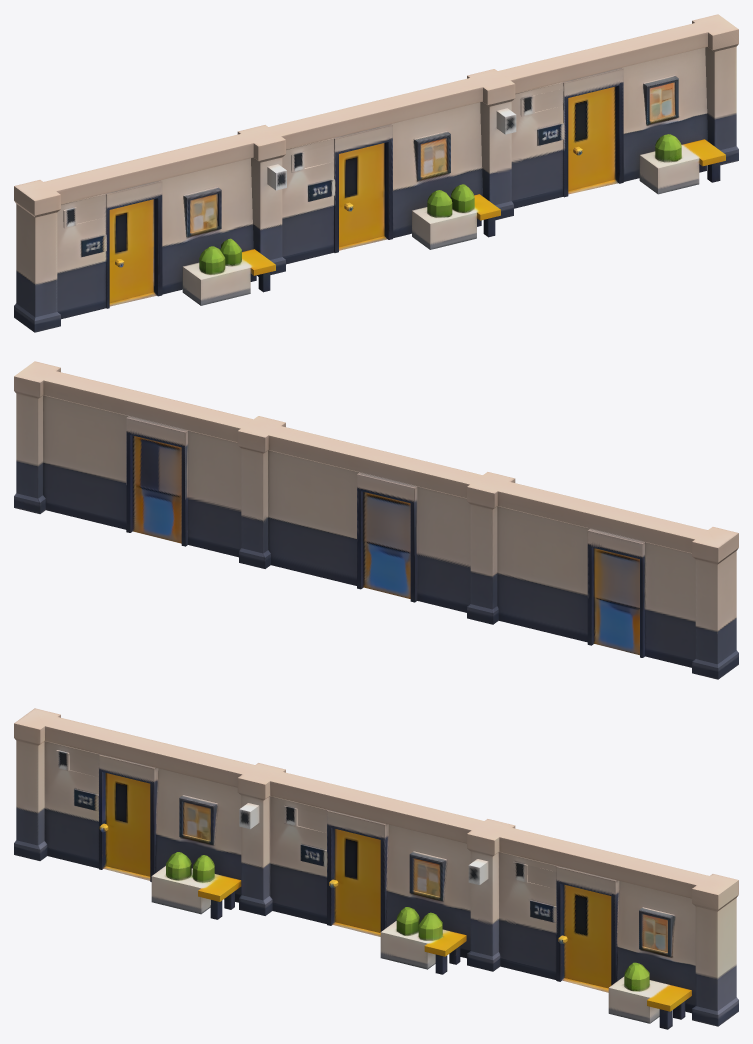
Rendered from zoulang1.fbx.
The picture shows the model from 3 angles, top to bottom: view 1: azimuth 30°, elevation 25°; view 2: azimuth 150°, elevation 25°; view 3: azimuth 330°, elevation 25°; orthographic projection.
Visible parts, largest first — view 1: base:Mesh; view 2: base:Mesh; view 3: base:Mesh.
Part boxes in pixels (box(x1,y1,x2,y2)): base:Mesh: box(14, 14, 738, 332); base:Mesh: box(14, 361, 738, 679); base:Mesh: box(14, 708, 738, 1029).
Size of the model in its own units: 1.9 by 0.3398 by 0.1792.
